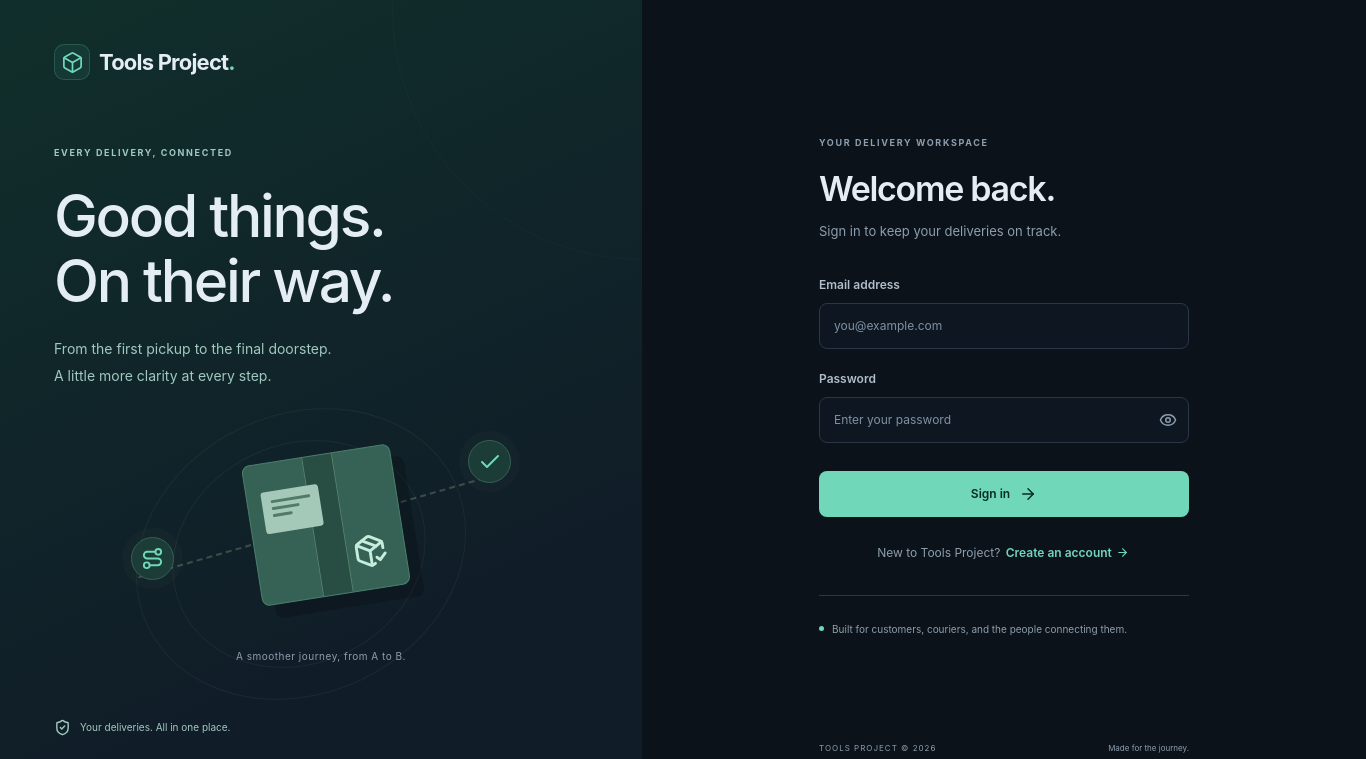
Test case: Tools Project workflows › shows a clean sign in screen and loads the full account profile after login
The image size is (1366, 759).
Expected: the heading "Welcome back." is shown, [819,168,1055,209]
Type "maya@example.test" into the field labelled "Email address".
click(1004, 326); type("maya@example.test")  # box [819,303,1189,349]
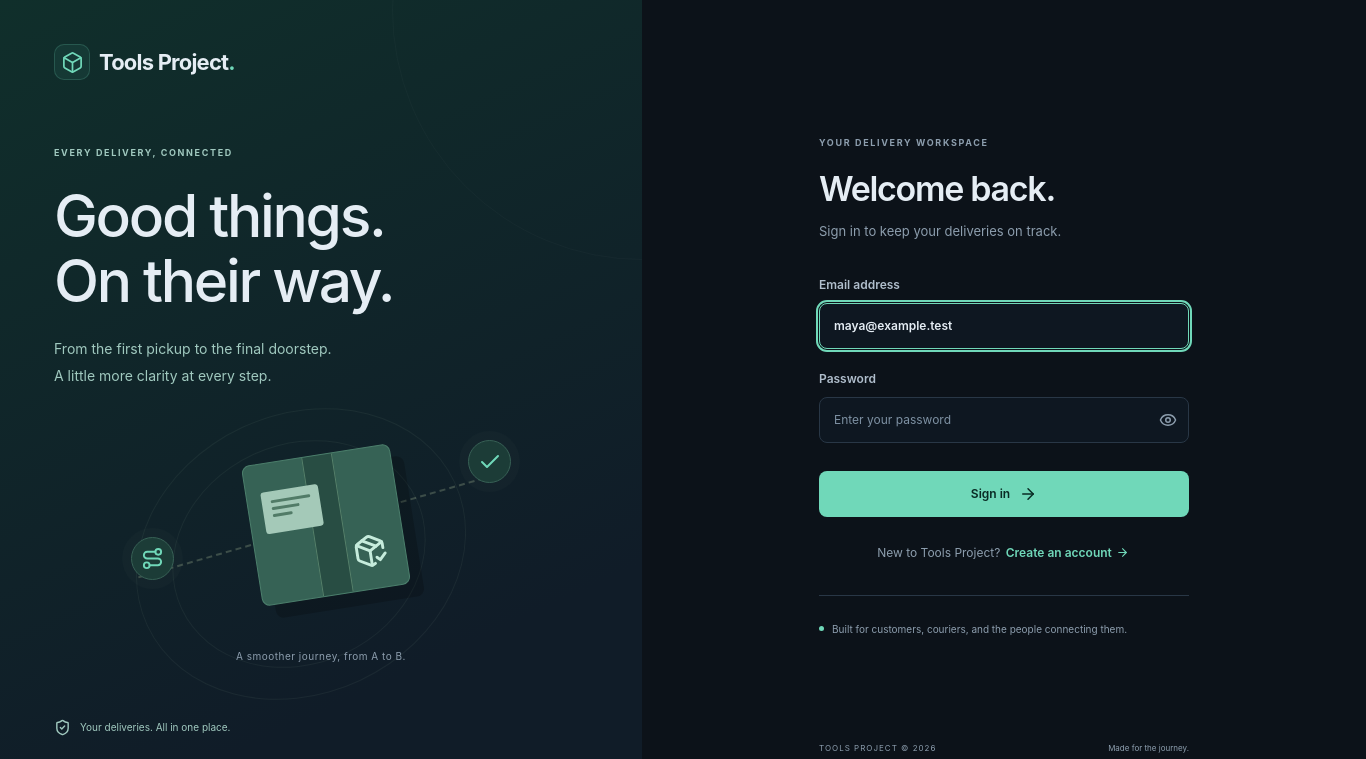
Type "Assignment123!" into the password field labelled "Password".
click(1004, 420); type("Assignment123!")  # box [819,397,1189,443]
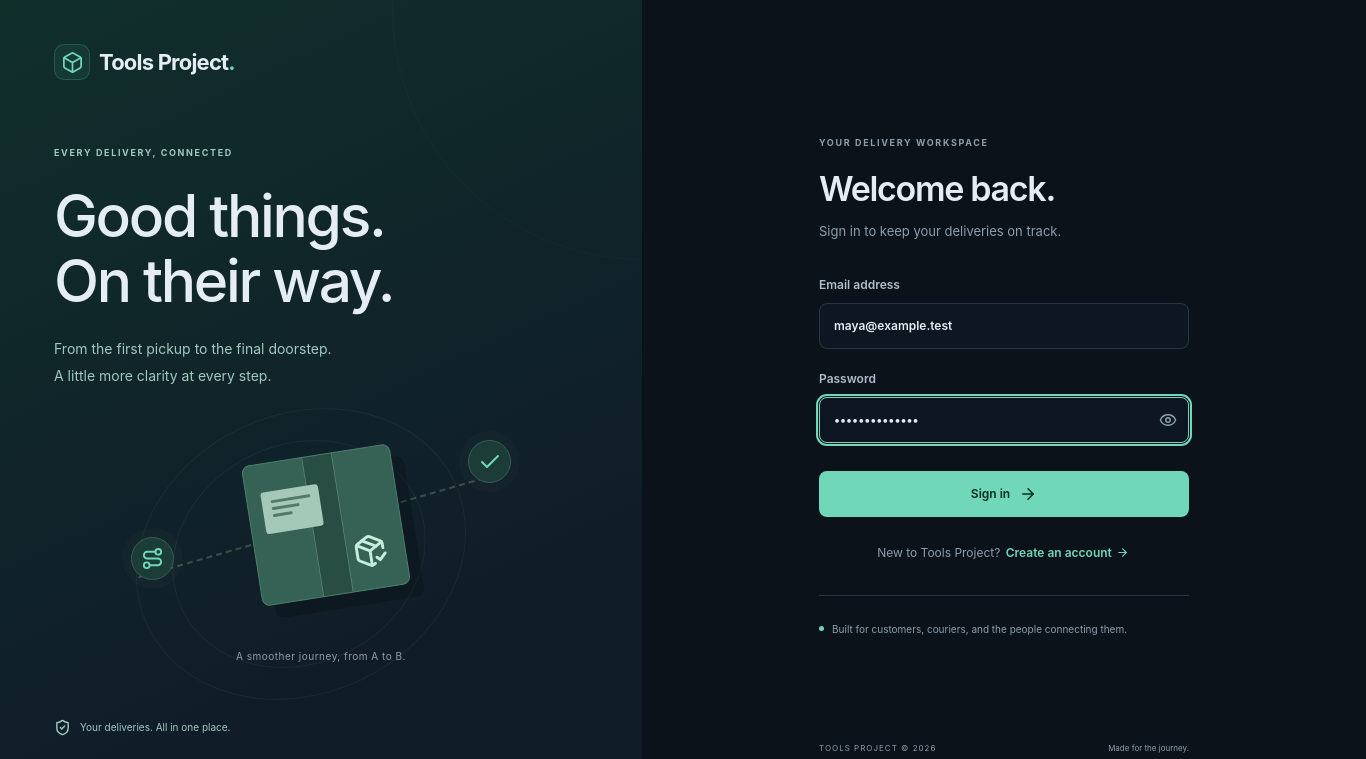
Click the button "Sign in".
click(1004, 494)  # box [819,471,1189,517]
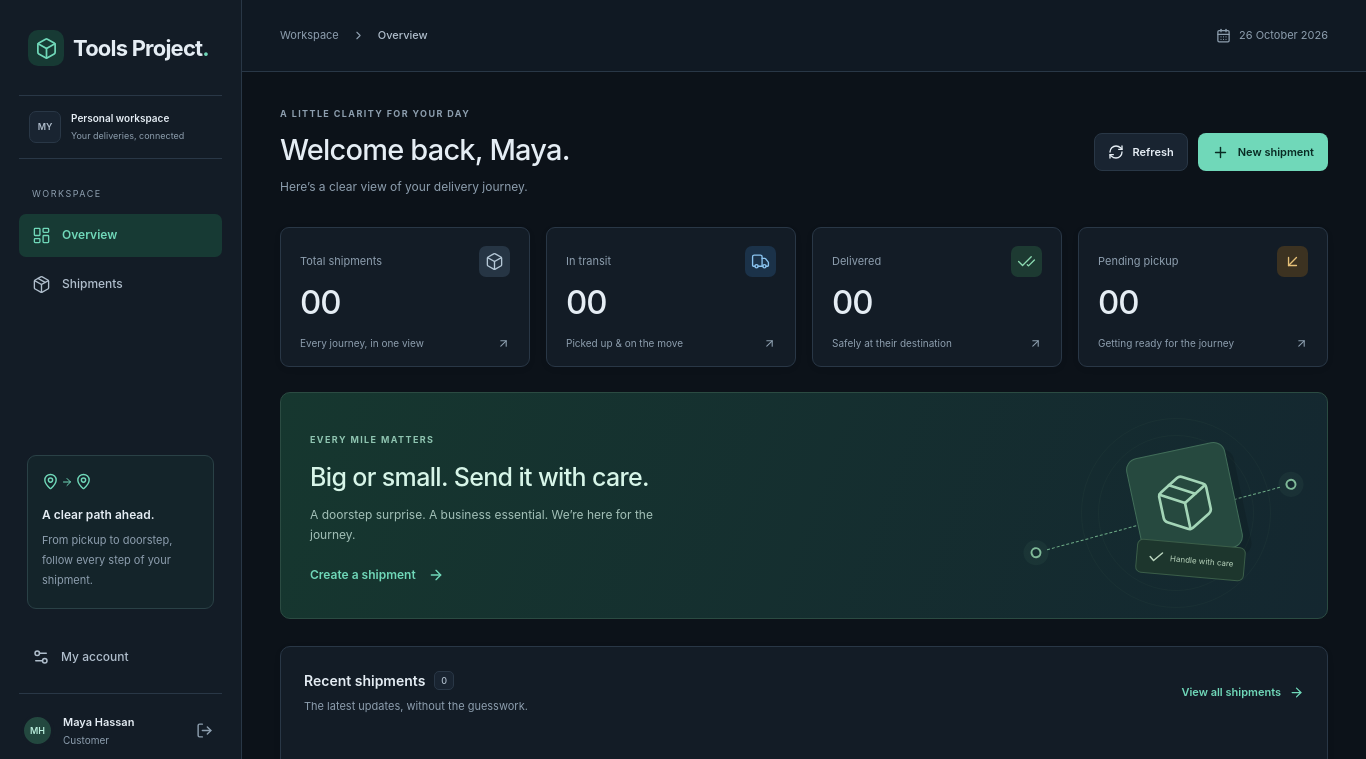
Expected: the heading "Welcome back, Maya." is shown, [280,132,570,167]
Click the button "My account".
click(120, 656)  # box [19,636,222,678]
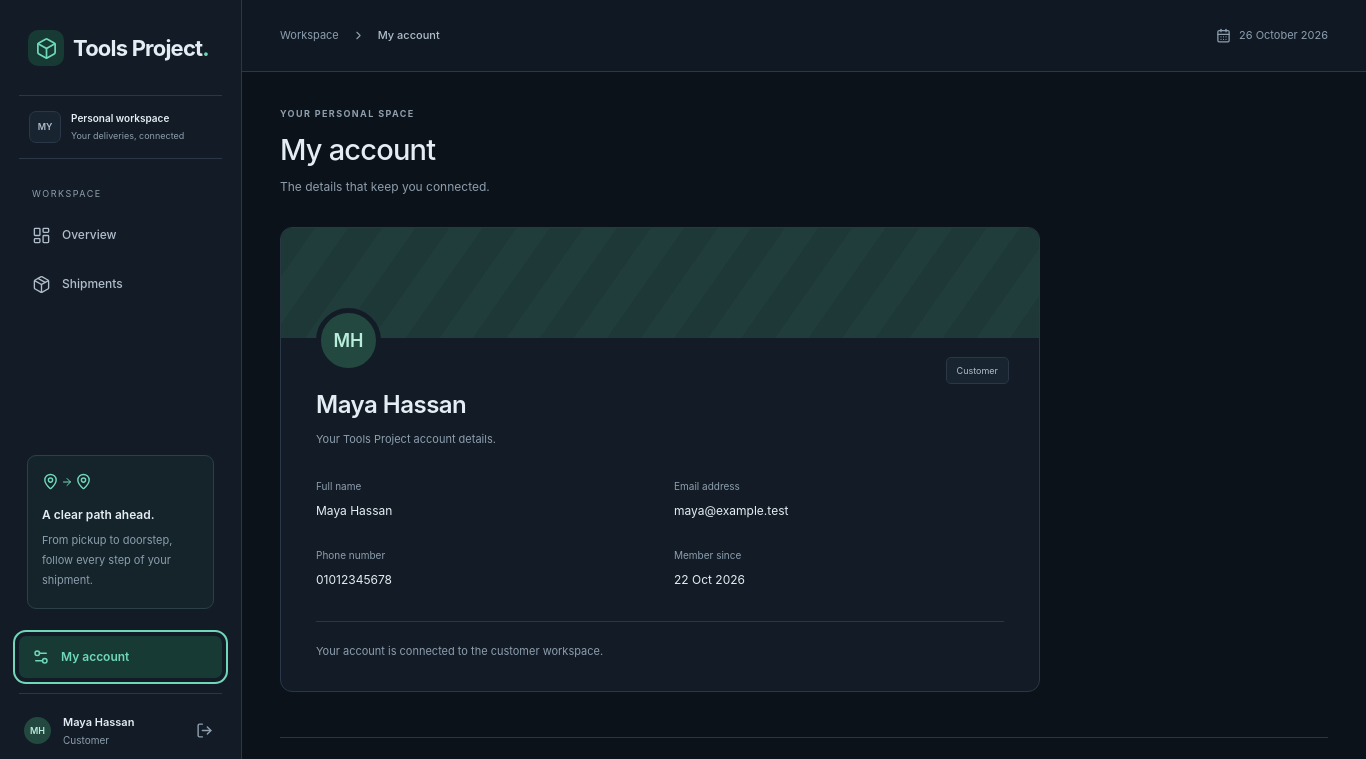
Expected: the text "maya@example.test" is shown, [674,503,788,518]
